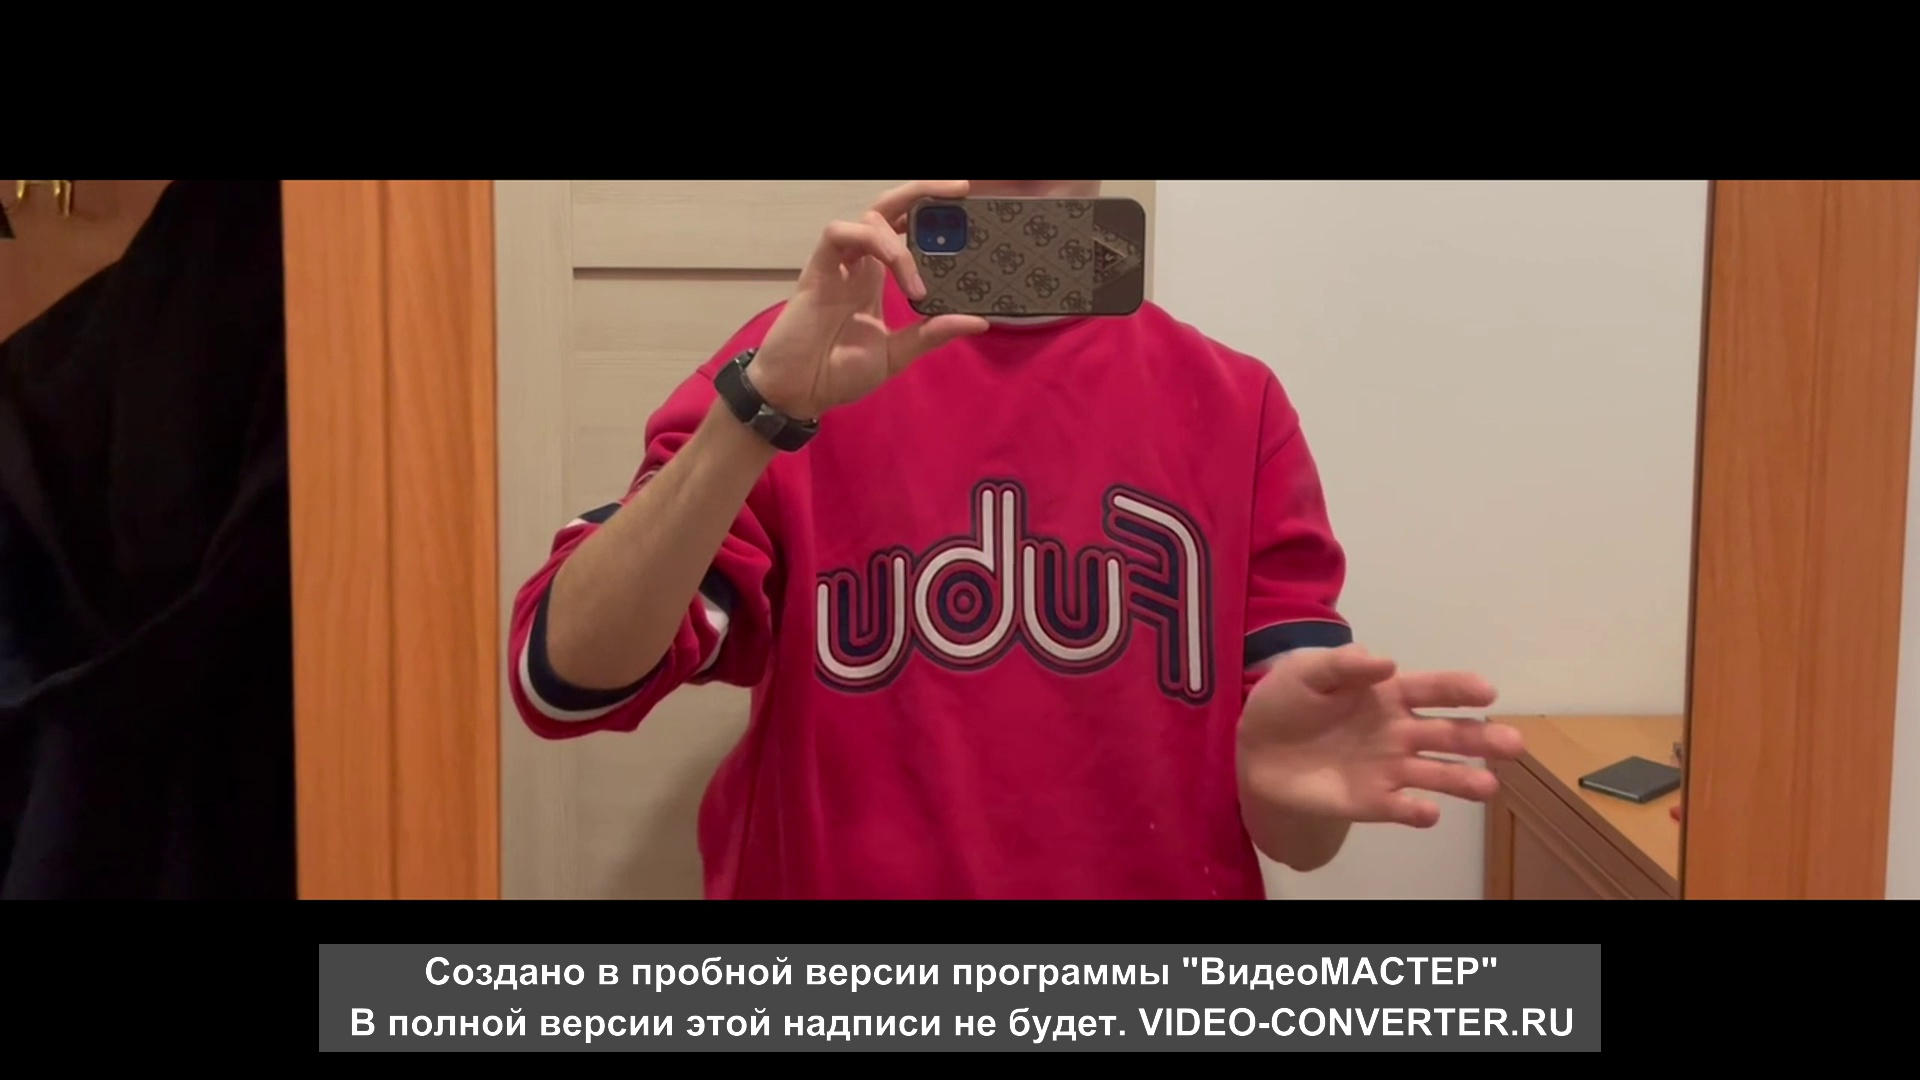Ладонь: (1242, 640, 1524, 831)
